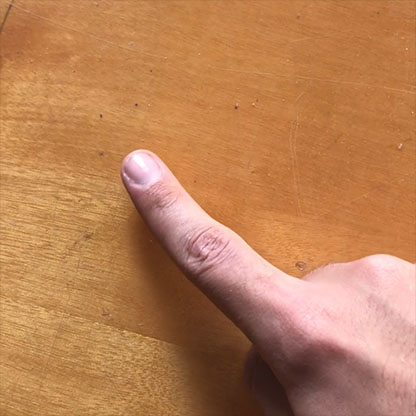fingertip: (106, 144, 177, 201)
